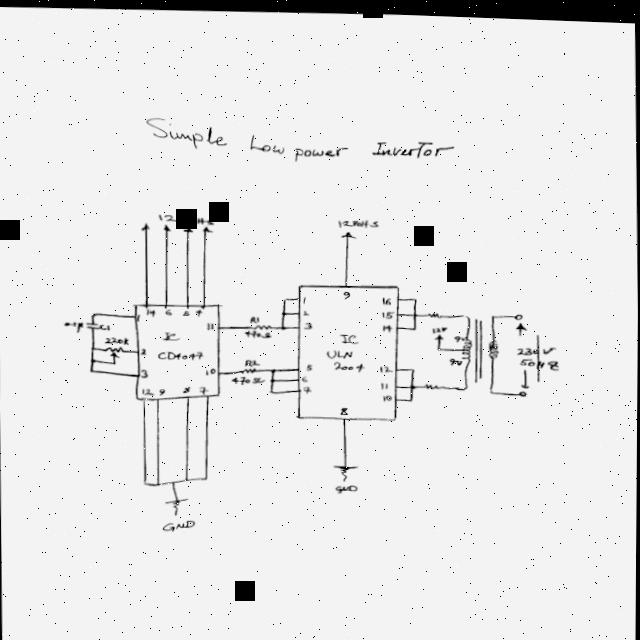capacitor: (85, 320, 99, 328)
ground: (332, 461, 359, 478), (164, 495, 189, 513)
junction: (455, 381, 467, 386), (90, 311, 98, 316), (487, 383, 493, 389), (280, 322, 287, 327), (269, 365, 276, 370), (408, 380, 415, 385), (461, 309, 469, 313), (200, 474, 208, 478), (89, 356, 95, 361), (411, 309, 418, 313), (89, 366, 94, 371), (280, 308, 286, 312), (269, 375, 275, 379), (409, 363, 415, 367), (412, 293, 418, 297), (111, 359, 117, 363), (154, 480, 160, 484), (183, 475, 189, 479), (282, 294, 287, 298), (269, 387, 274, 391), (408, 394, 413, 398), (142, 478, 146, 483), (170, 478, 175, 482), (411, 323, 417, 326), (435, 343, 441, 346), (89, 345, 94, 348), (490, 310, 494, 313)
resistor: (102, 344, 124, 356), (423, 379, 446, 385), (249, 321, 271, 327), (239, 364, 257, 371), (425, 308, 442, 314)
source: (339, 227, 357, 235), (139, 220, 151, 228), (200, 223, 212, 230), (162, 221, 171, 229), (182, 224, 193, 230), (432, 329, 443, 335)
terminal: (517, 385, 527, 392), (513, 309, 522, 315)
text: (144, 114, 454, 161), (157, 211, 214, 222), (518, 352, 559, 365), (156, 348, 203, 358), (161, 516, 196, 529), (336, 215, 379, 225), (332, 357, 365, 369), (515, 341, 556, 350), (230, 373, 265, 382), (325, 345, 353, 356), (63, 319, 83, 331), (243, 327, 272, 335), (104, 334, 129, 343), (334, 481, 358, 490), (338, 330, 359, 340), (161, 329, 180, 339), (243, 356, 260, 364), (448, 353, 464, 361), (378, 361, 393, 369), (140, 385, 155, 393), (430, 322, 447, 329), (248, 312, 260, 321), (204, 364, 216, 373), (197, 383, 209, 392), (381, 307, 394, 315), (381, 320, 392, 329), (145, 306, 156, 315), (380, 293, 392, 301), (98, 322, 111, 329), (339, 403, 349, 412), (139, 367, 149, 376), (302, 318, 313, 326), (453, 331, 465, 338), (205, 319, 214, 328), (379, 378, 389, 386), (381, 391, 392, 398), (302, 382, 311, 390), (181, 383, 190, 391), (342, 287, 350, 295), (194, 306, 202, 314), (304, 360, 313, 367), (163, 306, 172, 313), (139, 346, 147, 353), (301, 372, 308, 379), (158, 386, 165, 393), (301, 306, 309, 312), (136, 312, 141, 320), (181, 308, 189, 313), (301, 293, 305, 301)
transformer: (459, 313, 499, 378)
